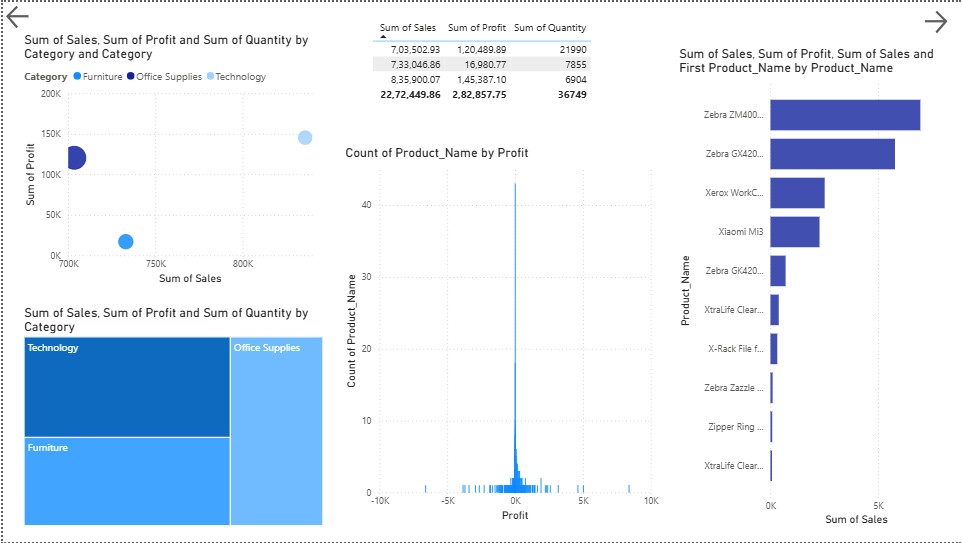

The dashboard page shown, as its layout file describes it:
{"tool":"powerbi","page":{"name":"Page 2: Product Performance","canvas":[1280,720],"ordinal":1},"visuals":[{"type":"barChart","fields":{"Category":["SALES.Product_Name"],"Y":["Sum(SALES.Sales)"]},"box":[896.7,58.3,368.3,645],"z":0},{"type":"columnChart","fields":{"Category":["SALES.Profit"],"Y":["CountNonNull(SALES.Product_Name)"]},"box":[452,190,428,508],"z":1000},{"type":"treemap","fields":{"Values":["Sum(SALES.Sales)"],"Group":["SALES.Category"]},"box":[23.3,403.3,408.3,300],"z":2000},{"type":"pivotTable","fields":{"Values":["Sum(SALES.Sales)","Sum(SALES.Profit)","Sum(SALES.Quantity)"],"Rows":["SALES.Category","SALES.Sub_Category"]},"box":[488,18,312,128],"z":3000},{"type":"scatterChart","fields":{"X":["Sum(SALES.Sales)"],"Y":["Sum(SALES.Profit)"],"Size":["Sum(SALES.Quantity)"],"Category":["SALES.Category"],"Series":["SALES.Category"]},"box":[23.3,40,408.3,341.7],"z":4000},{"type":"actionButton","box":[0,0,63.3,40],"z":5000},{"type":"actionButton","box":[1223.3,6.7,56.7,40],"z":6000}]}

Visuals, with their boxes in screenshot pixels (x1, y1, x2, y2), scaled from the page's 1280x720 canvas onto the 962x543 screenshot:
barChart - SALES.Product_Name x Sum(SALES.Sales): (left=674, top=44, right=951, bottom=530)
columnChart - SALES.Profit x CountNonNull(SALES.Product_Name): (left=340, top=143, right=661, bottom=526)
treemap - Sum(SALES.Sales) x SALES.Category: (left=18, top=304, right=324, bottom=530)
pivotTable - Sum(SALES.Sales) x Sum(SALES.Profit): (left=367, top=14, right=601, bottom=110)
scatterChart - Sum(SALES.Sales) x Sum(SALES.Profit): (left=18, top=30, right=324, bottom=288)
actionButton: (left=0, top=0, right=48, bottom=30)
actionButton: (left=919, top=5, right=961, bottom=35)
